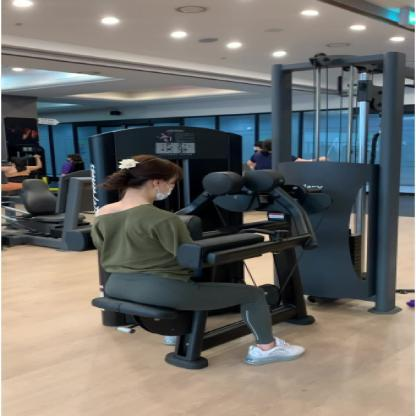lateral raises machine: (90, 169, 400, 370)
